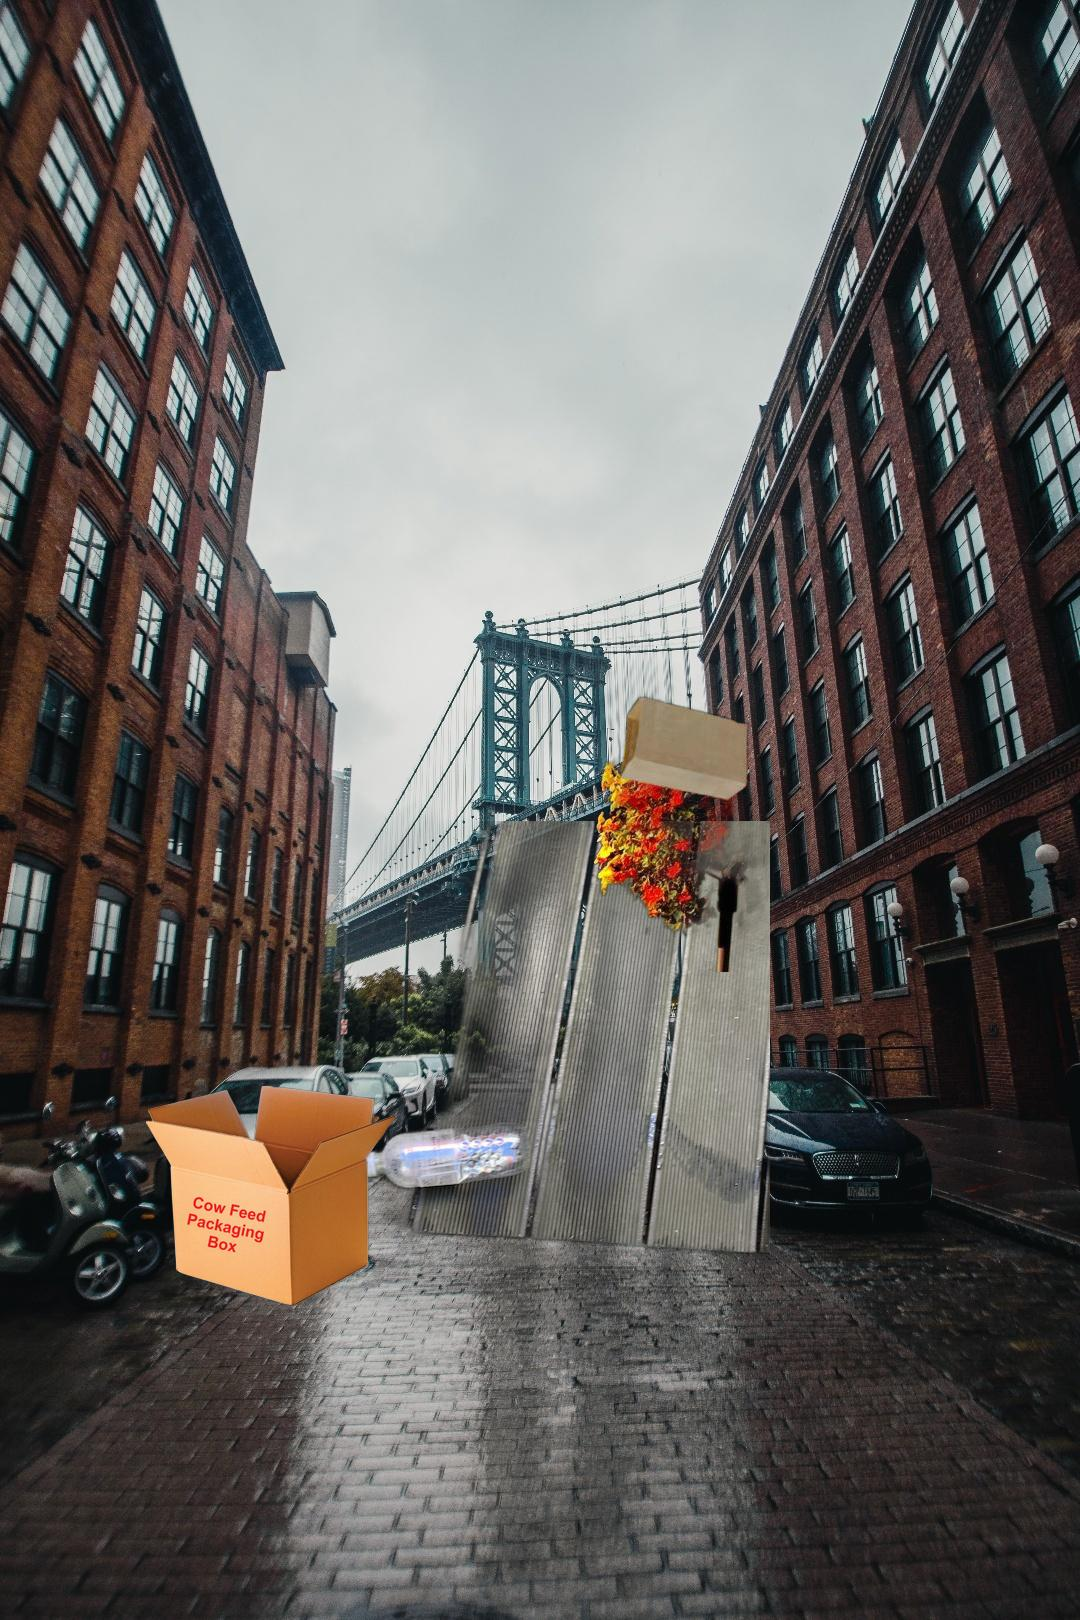paper-bag: (589, 673, 811, 972)
plastic-bottles: (258, 821, 770, 1269)
trashbox-cardboard: (146, 1086, 397, 1307)
